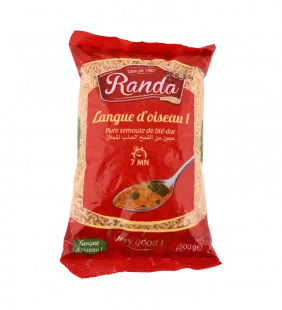RANDA: (52, 21, 228, 284)
